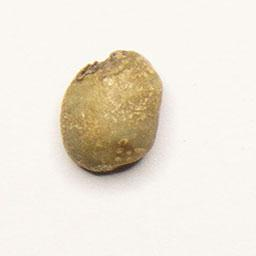defect: (54, 43, 167, 181)
